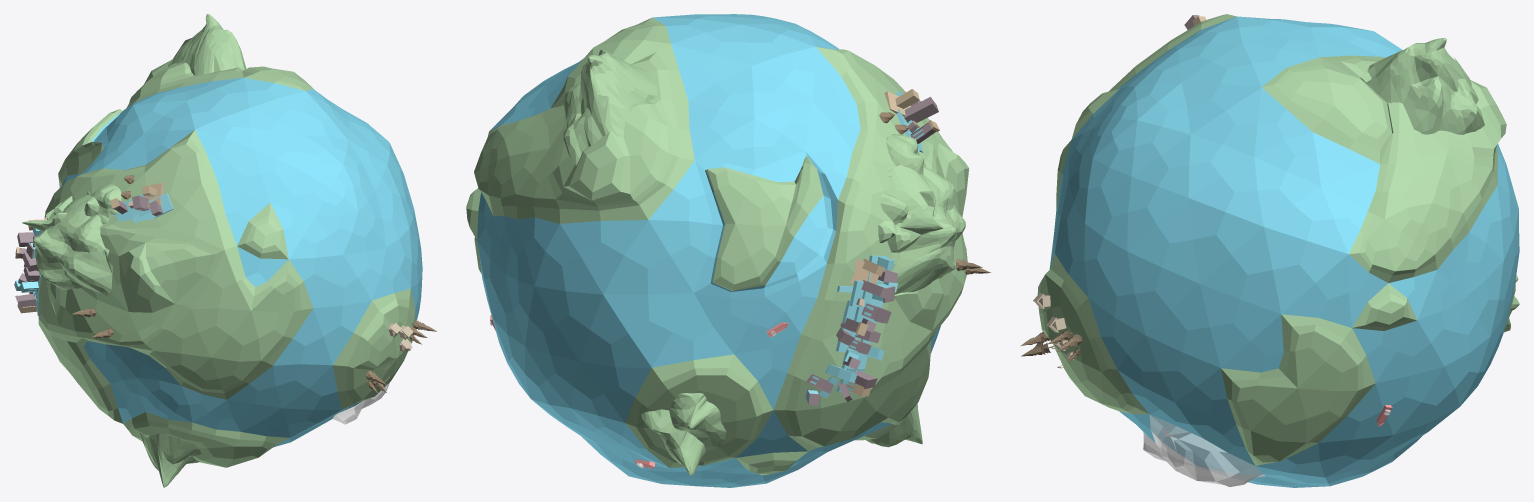
The model's file is World.fbx.
The picture shows the model from 3 angles, left to right: view 1: azimuth 30°, elevation 25°; view 2: azimuth 150°, elevation 25°; view 3: azimuth 270°, elevation 25°; orthographic projection. The views are drawn at different scales.
Visible parts, largest first — view 1: Cylinder_6; view 2: Cylinder_6; view 3: Cylinder_6.
Part boxes in pixels (left/top/right/bottom): Cylinder_6: left=14, top=14, right=436, bottom=487; Cylinder_6: left=466, top=14, right=990, bottom=487; Cylinder_6: left=1020, top=14, right=1519, bottom=487.
Size of the model in its own units: 317 by 298 by 301.
